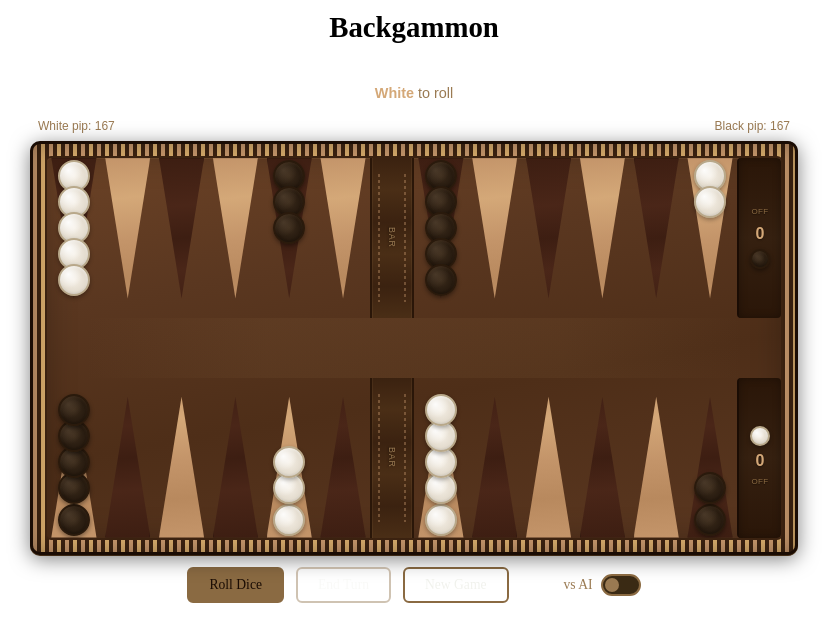
Test: Board › rolling moves white into the moving phase and shows two dice
This screenshot has width=829, height=620.
Click the button "Roll Dice".
click(236, 585)  # box [188,567,284,603]
Wait 1000 ms
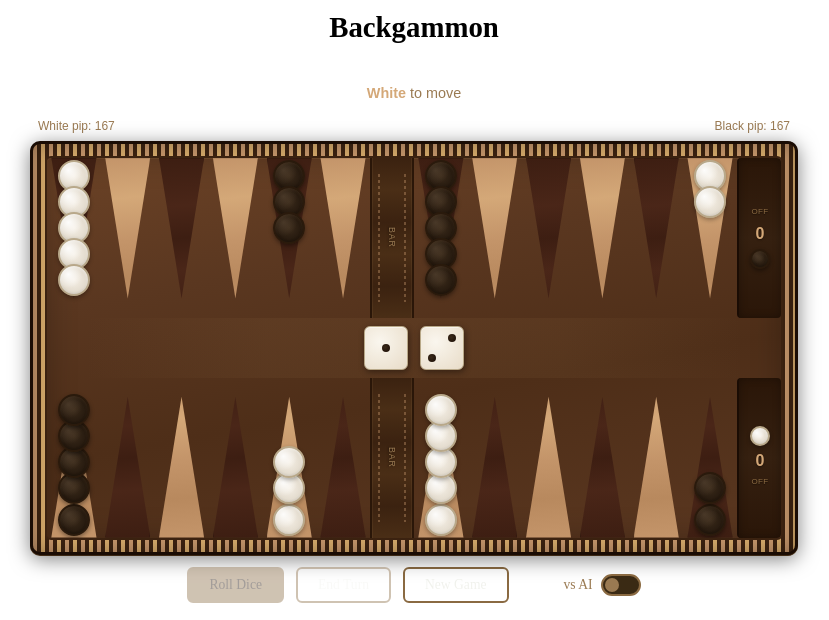
Check: the button "Roll Dice" is disabled, box [188,567,284,603]
Click the button "New Game".
click(456, 585)  # box [403,567,508,603]
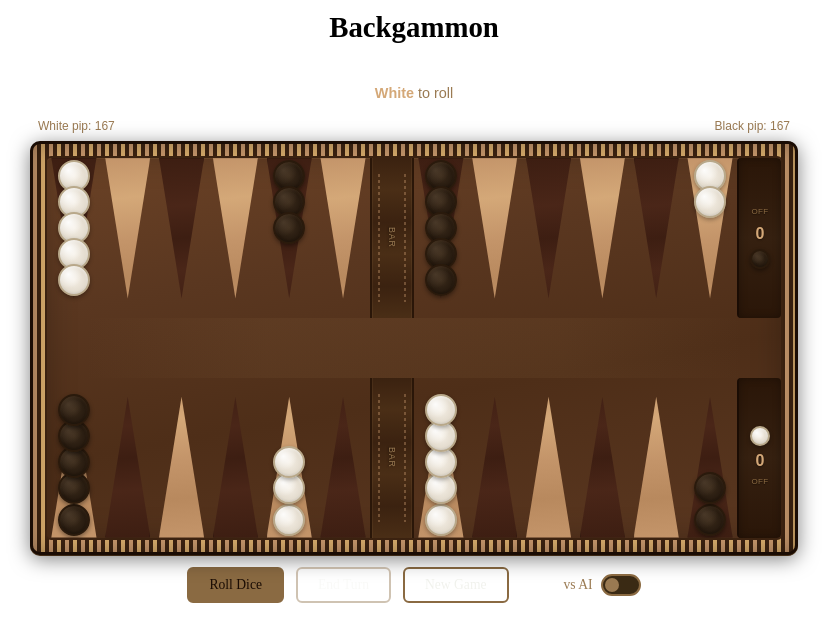
Check: the button "Roll Dice" is enabled, box [188,567,284,603]
